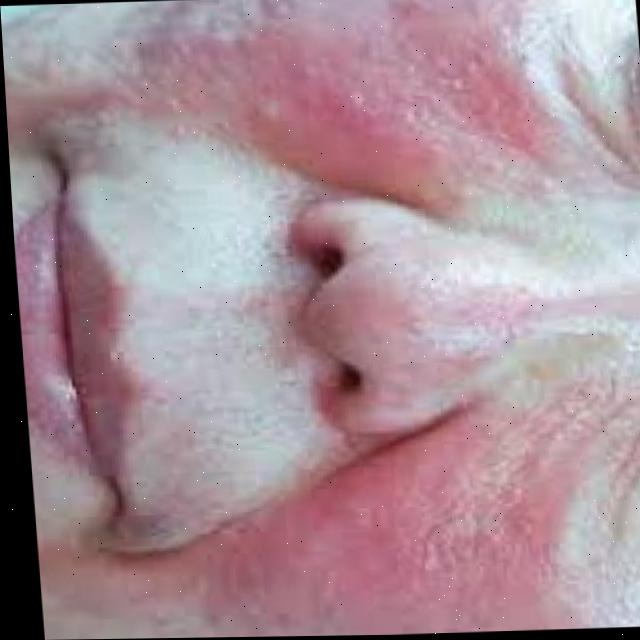Rosacea: (153, 420, 558, 638), (164, 0, 530, 164)
